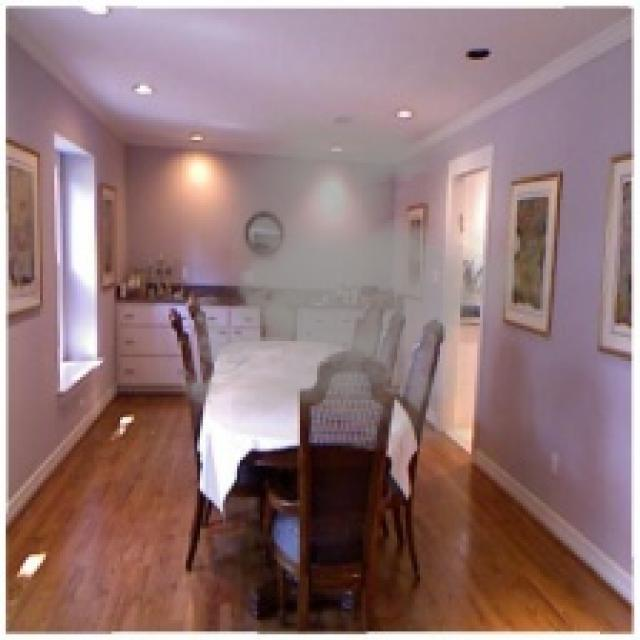smoke: (166, 106, 534, 451)
